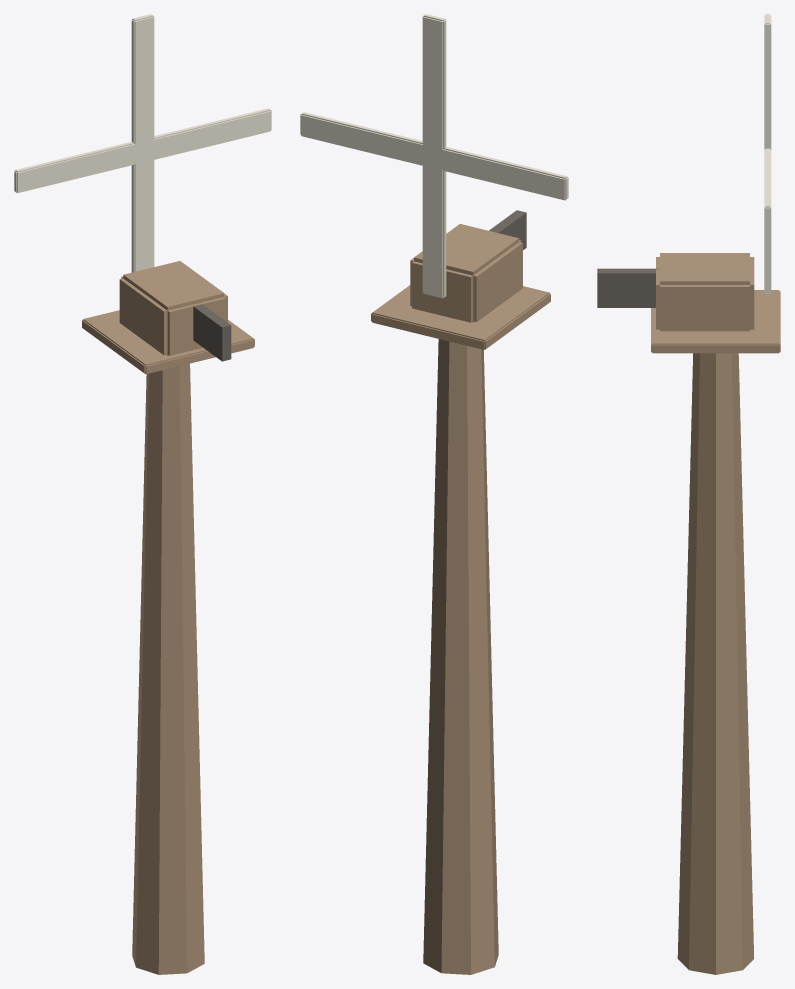
The model's file is windmill.glb.
3 views of the same model, side by side, from view 1: azimuth 30°, elevation 25°; view 2: azimuth 150°, elevation 25°; view 3: azimuth 270°, elevation 25° (orthographic). The views are drawn at different scales.
Visible parts, largest first — view 1: Tower, Nacelle, Sail_1, Sail_3, Sail_2, Sail_0, Deck, Tail; view 2: Tower, Nacelle, Sail_0, Sail_1, Sail_3, Deck, Sail_2, Tail; view 3: Tower, Nacelle, Deck, Tail, Sail_0, Sail_2, Sail_1.
Boxes of the visible parts, x1=… form: Tower: x1=132, y1=363, x2=204, y2=974; Nacelle: x1=119, y1=261, x2=227, y2=355; Sail_1: x1=14, y1=108, x2=271, y2=192; Sail_3: x1=14, y1=110, x2=271, y2=192; Sail_2: x1=131, y1=14, x2=154, y2=271; Sail_0: x1=131, y1=14, x2=154, y2=272; Deck: x1=82, y1=310, x2=254, y2=374; Tail: x1=193, y1=302, x2=231, y2=361; Tower: x1=423, y1=339, x2=498, y2=974; Nacelle: x1=410, y1=224, x2=522, y2=322; Sail_0: x1=422, y1=14, x2=446, y2=298; Sail_1: x1=300, y1=112, x2=568, y2=200; Sail_3: x1=300, y1=115, x2=568, y2=199; Deck: x1=371, y1=285, x2=550, y2=349; Sail_2: x1=422, y1=14, x2=446, y2=298; Tail: x1=489, y1=210, x2=526, y2=249; Tower: x1=677, y1=353, x2=754, y2=974; Nacelle: x1=656, y1=253, x2=754, y2=331; Deck: x1=651, y1=290, x2=780, y2=353; Tail: x1=597, y1=268, x2=659, y2=307; Sail_0: x1=764, y1=14, x2=771, y2=229; Sail_2: x1=764, y1=14, x2=771, y2=295; Sail_1: x1=764, y1=149, x2=771, y2=228.
Bounding box in the file's own units: 2.2 × 7.6 × 1.35.
